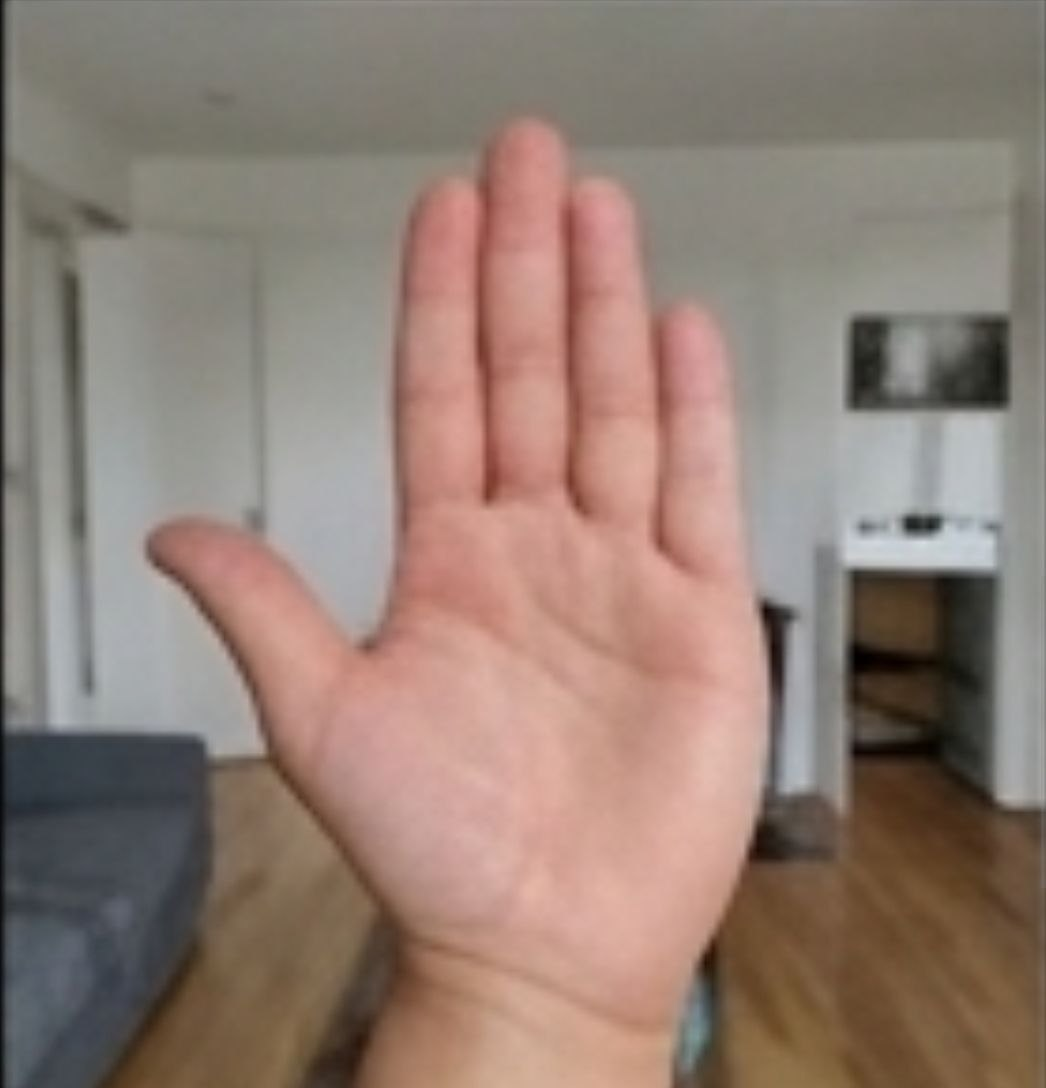Palm: (135, 101, 800, 1059)
